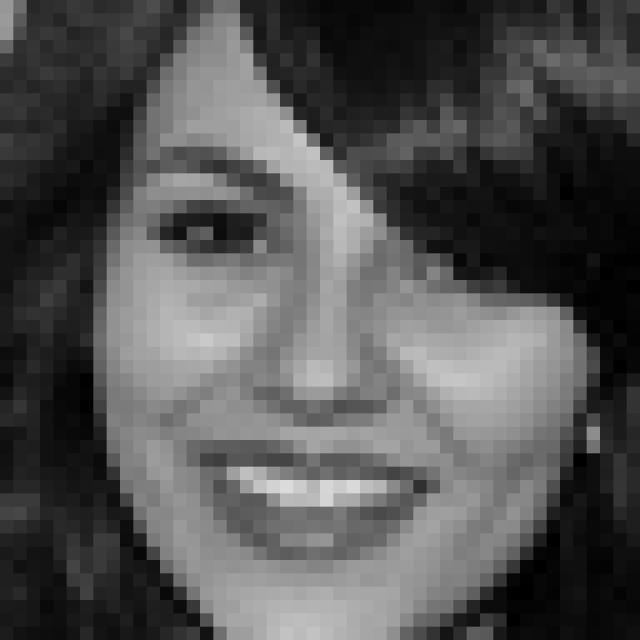happy: (136, 132, 517, 575)
